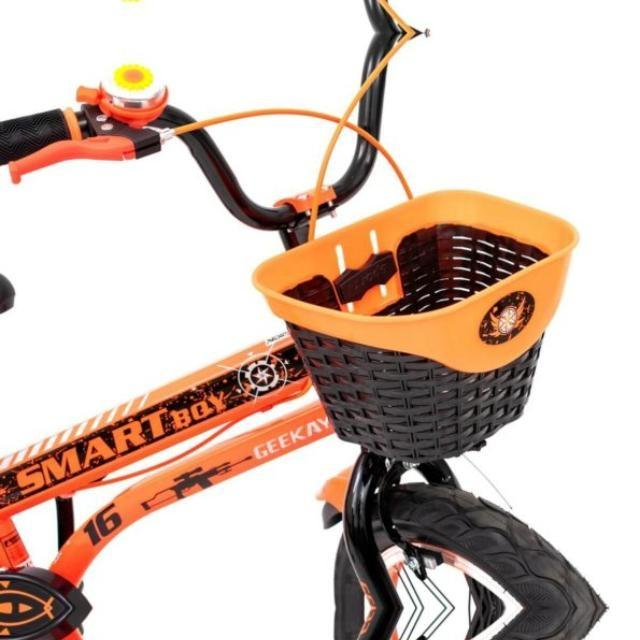obstacle: (1, 34, 622, 608), (0, 607, 621, 640), (0, 0, 621, 30)
